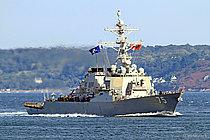MIL_Ship: (24, 8, 183, 117)
